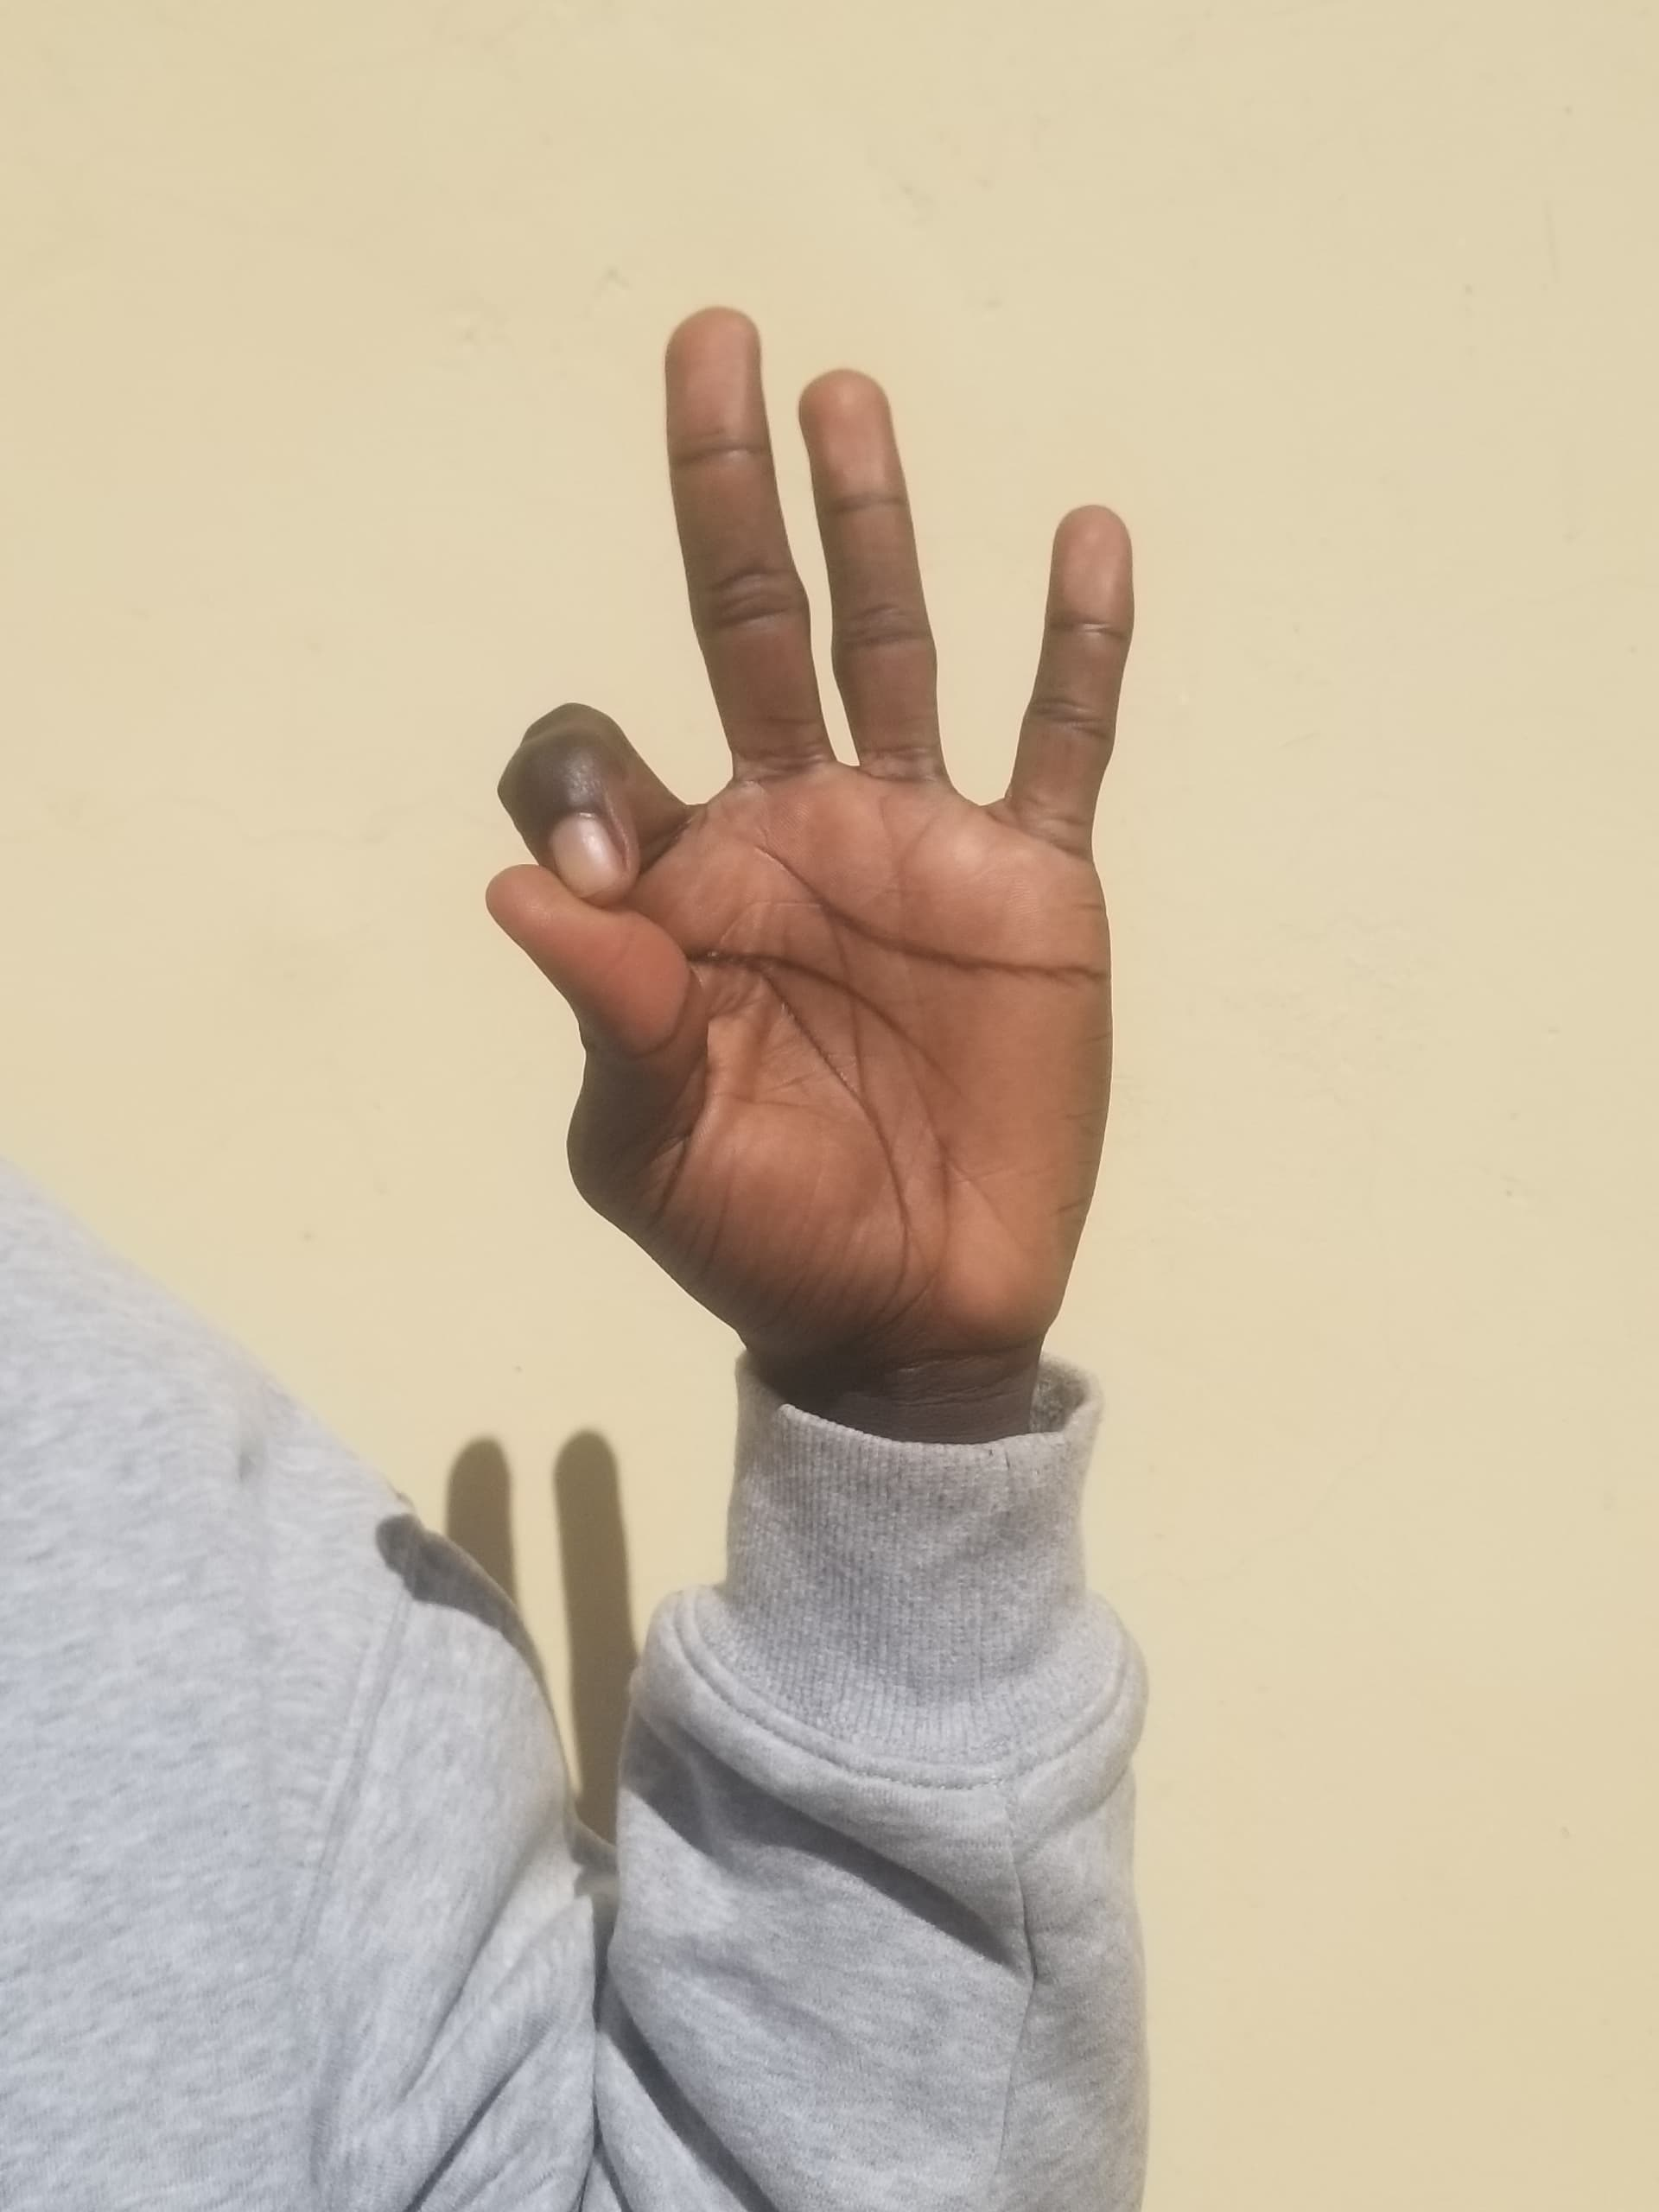okay: (451, 266, 1253, 1470)
